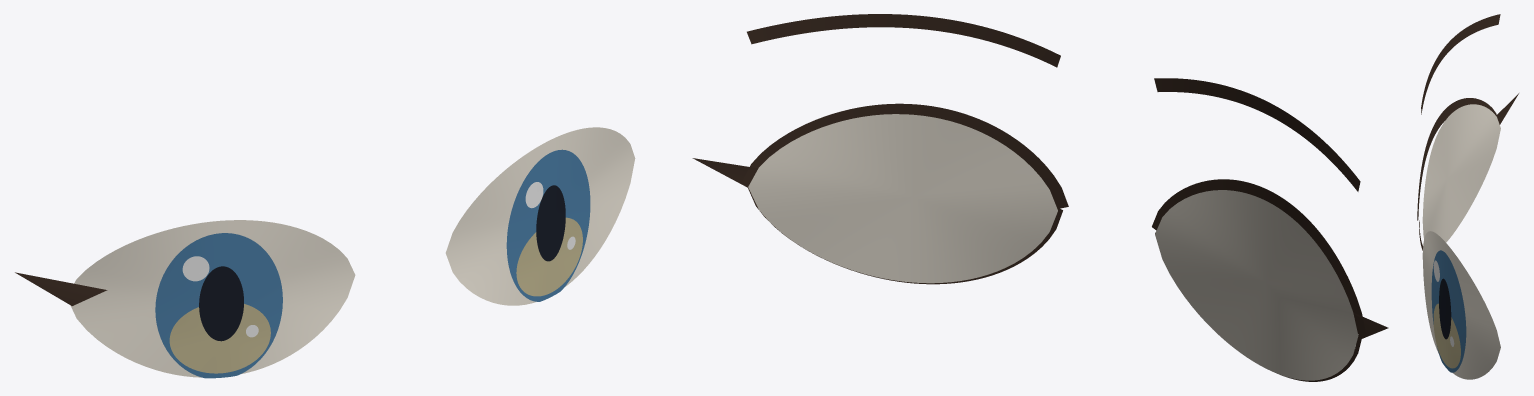
The picture shows the model from 3 angles, left to right: view 1: azimuth 30°, elevation 25°; view 2: azimuth 150°, elevation 25°; view 3: azimuth 270°, elevation 25°; orthographic projection. The views are drawn at different scales.
Visible parts, largest first — view 1: Eye_White_-1, Eye_White_1, Eye_Iris_-1, Eye_Iris_1, Eye_Iris_Light_-1, Eye_Iris_Light_1, Eye_Pupil_-1, Eye_Pupil_1, Eye_LashWing_-1, Eye_Glint_-1_0; view 2: Eye_White_1, Eye_White_-1, Eyebrow_1, Eye_UpperLid_1, Eye_UpperLid_-1, Eyebrow_-1, Eye_LowerLid_1, Eye_LashWing_1; view 3: Eye_White_-1, Eye_White_1, Eye_Iris_1, Eye_Iris_Light_1, Eyebrow_-1, Eye_UpperLid_-1, Eye_Pupil_1, Eye_LashWing_-1, Eye_Glint_1_0.
Part boxes in pixels (left/top/right/bottom): Eye_White_-1: left=70, top=220, right=355, bottom=377; Eye_White_1: left=445, top=127, right=635, bottom=305; Eye_Iris_-1: left=155, top=233, right=282, bottom=378; Eye_Iris_1: left=506, top=149, right=590, bottom=301; Eye_Iris_Light_-1: left=169, top=304, right=270, bottom=373; Eye_Iris_Light_1: left=516, top=217, right=582, bottom=296; Eye_Pupil_-1: left=199, top=266, right=243, bottom=341; Eye_Pupil_1: left=536, top=185, right=565, bottom=261; Eye_LashWing_-1: left=15, top=272, right=107, bottom=305; Eye_Glint_-1_0: left=182, top=256, right=209, bottom=281; Eye_White_1: left=748, top=114, right=1057, bottom=283; Eye_White_-1: left=1155, top=190, right=1358, bottom=380; Eyebrow_1: left=747, top=14, right=1060, bottom=67; Eye_UpperLid_1: left=742, top=103, right=1068, bottom=208; Eye_UpperLid_-1: left=1152, top=179, right=1365, bottom=333; Eyebrow_-1: left=1154, top=78, right=1360, bottom=191; Eye_LowerLid_1: left=747, top=186, right=1062, bottom=284; Eye_LashWing_1: left=692, top=158, right=758, bottom=187; Eye_White_-1: left=1422, top=104, right=1500, bottom=242; Eye_White_1: left=1422, top=231, right=1500, bottom=379; Eye_Iris_1: left=1431, top=250, right=1466, bottom=372; Eye_Iris_Light_1: left=1433, top=303, right=1460, bottom=368; Eyebrow_-1: left=1421, top=14, right=1500, bottom=114; Eye_UpperLid_-1: left=1417, top=98, right=1499, bottom=220; Eye_Pupil_1: left=1439, top=278, right=1451, bottom=339; Eye_LashWing_-1: left=1496, top=93, right=1518, bottom=124; Eye_Glint_1_0: left=1433, top=260, right=1439, bottom=281.
Size of the model in its own units: 0.418 by 0.1544 by 0.0725.
